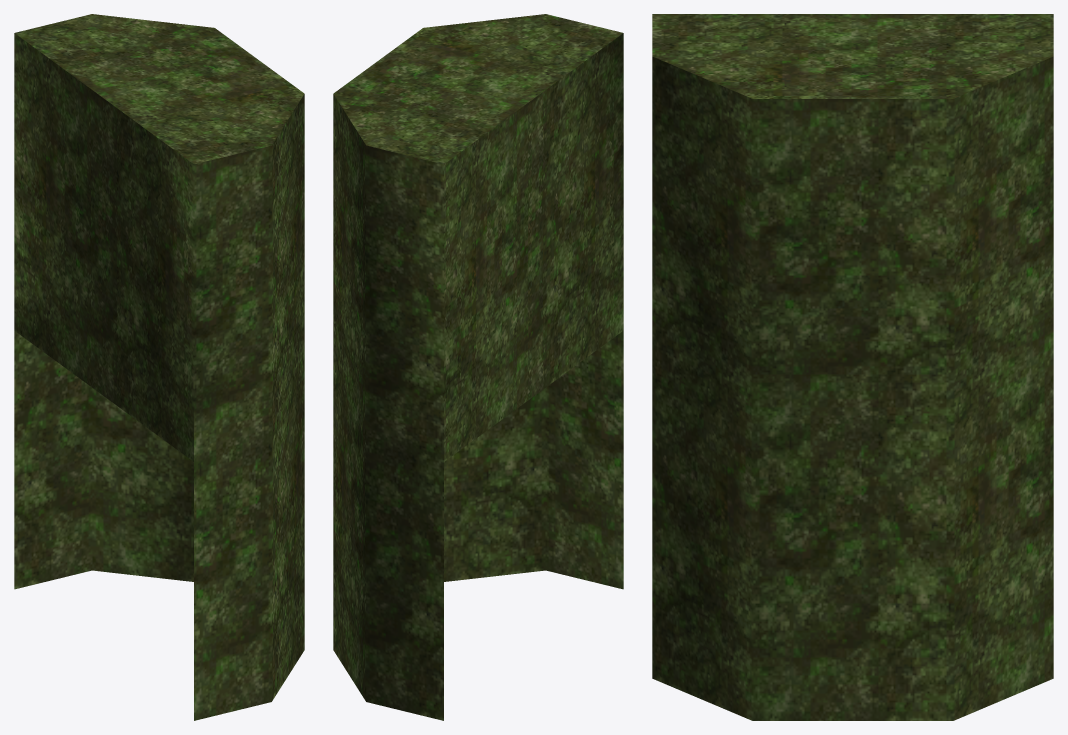
Rendered from OVERHILL_A_01_LINE147.fbx.
The picture shows the model from 3 angles, left to right: view 1: azimuth 30°, elevation 25°; view 2: azimuth 150°, elevation 25°; view 3: azimuth 270°, elevation 25°; orthographic projection. The views are drawn at different scales.
Parts seen in each view (by area): view 1: OVERHILL_A_01_LINE147; view 2: OVERHILL_A_01_LINE147; view 3: OVERHILL_A_01_LINE147.
Boxes of the visible parts, x1,y1,x2,y2 form: OVERHILL_A_01_LINE147: (14,14,304,720); OVERHILL_A_01_LINE147: (333,14,623,720); OVERHILL_A_01_LINE147: (652,14,1053,720).
Bounding box in the file's own units: 20000 × 68372 × 40000.
Materials: 1 (1 with a texture image).
